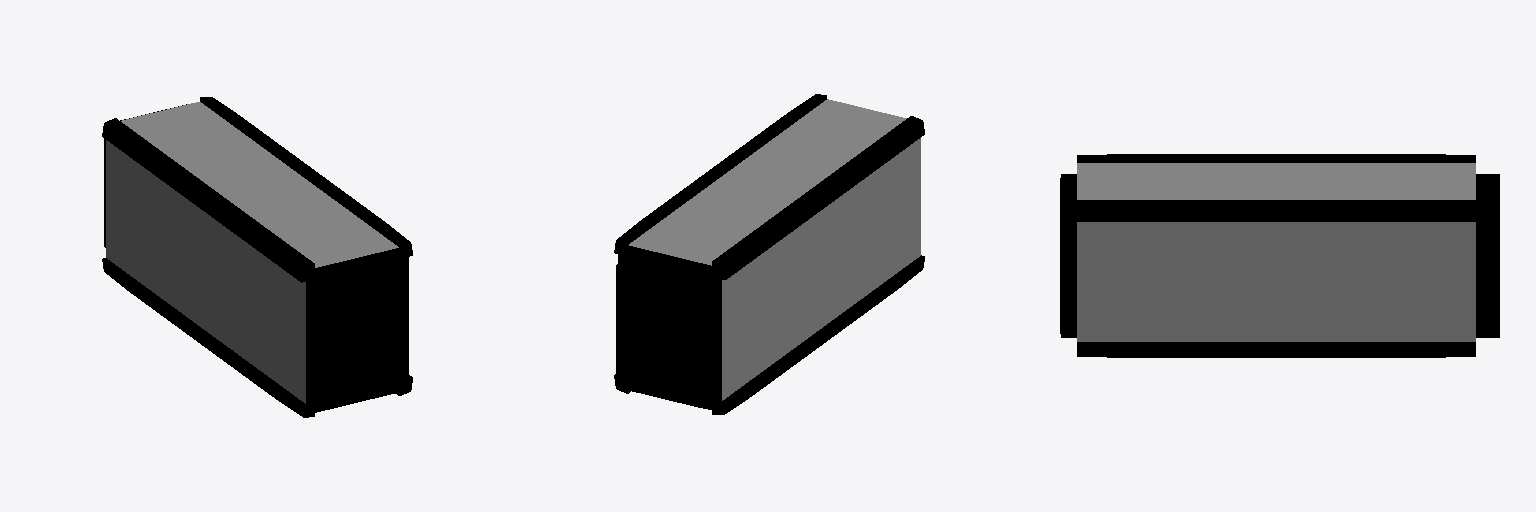
The model's file is skyscraper_windowA_01.obj.
The picture shows the model from 3 angles: view 1: azimuth 30°, elevation 25°; view 2: azimuth 150°, elevation 25°; view 3: azimuth 270°, elevation 25°; orthographic projection.
Parts seen in each view (by area): view 1: Zone_4x4_SeaWall_C_06; view 2: Zone_4x4_SeaWall_C_06; view 3: Zone_4x4_SeaWall_C_06.
Part boxes in pixels (x1,y1,x2,y2): Zone_4x4_SeaWall_C_06: (102, 97, 412, 417); Zone_4x4_SeaWall_C_06: (614, 94, 924, 414); Zone_4x4_SeaWall_C_06: (1060, 154, 1499, 357).
Bounding box in the file's own units: 32.29 × 42.29 × 110.